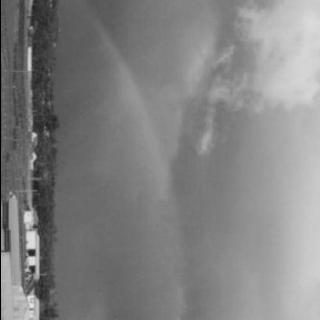Stratocumulus: (64, 0, 320, 320)
